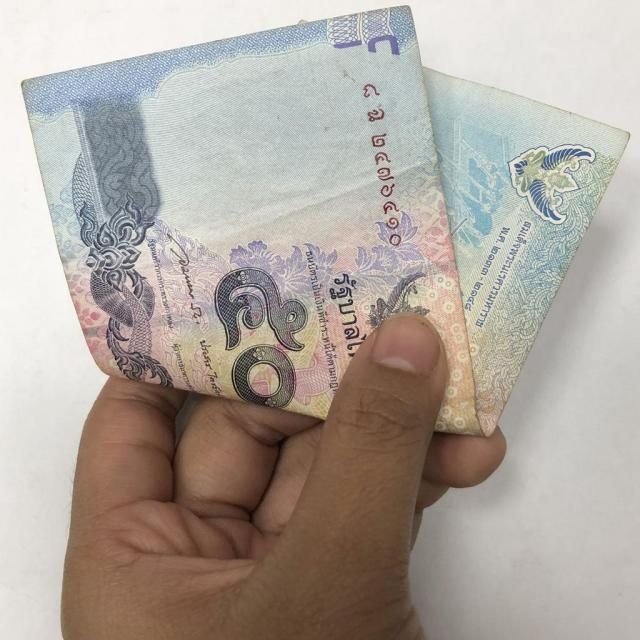THAI50: (22, 6, 628, 435)
